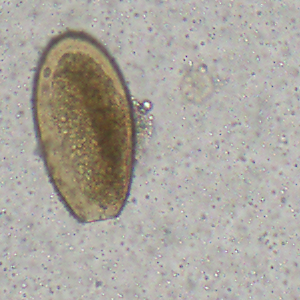Fasciola_hepatica_egg: (32, 28, 136, 225)
